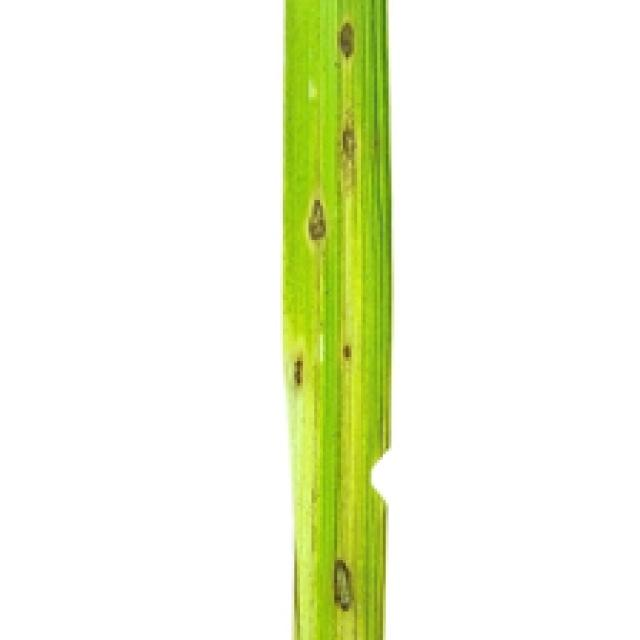Rice___Rice_Blast: (281, 0, 393, 637)
